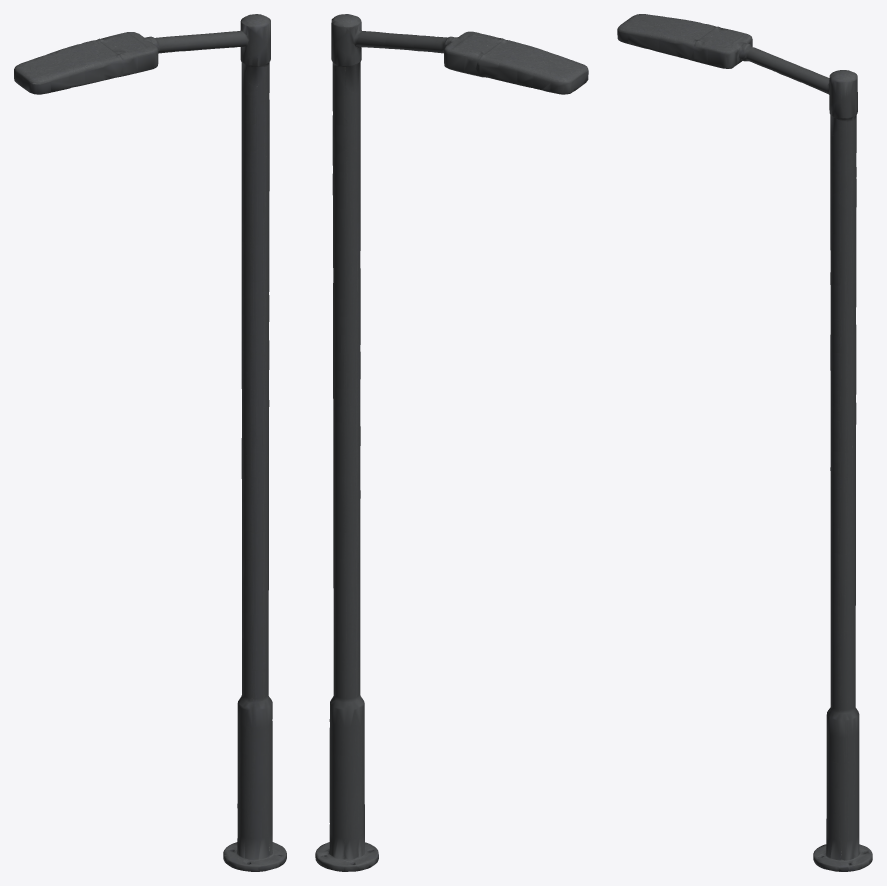
Rendered from lamppost.glb.
3 renders of one model, left to right at view 1: azimuth 30°, elevation 25°; view 2: azimuth 150°, elevation 25°; view 3: azimuth 330°, elevation 25°, orthographic. The views are drawn at different scales.
Visible parts, largest first — view 1: mesh_node; view 2: mesh_node; view 3: mesh_node.
Part boxes in pixels (x1,y1,x2,y2): mesh_node: [14, 14, 286, 871]; mesh_node: [315, 14, 588, 871]; mesh_node: [617, 14, 872, 871].
Size of the model in its own units: 0.6122 by 1.9 by 0.1286.
1 material, 1 textured.
